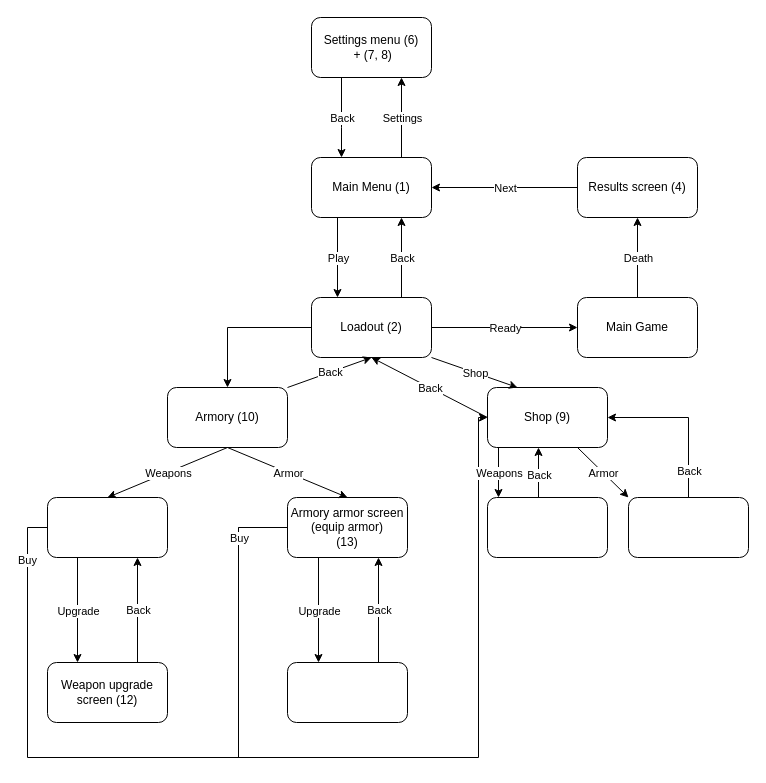
This 766x783 diagram has some shape labels left out. Here are the shapes that lost their labels. From the top down, the centre of each, then its label:
At [107,527]: "Armory weapon screen (11) (equip weapons)".
At [547,527]: "Shop weapon screen (equip/buy weapons) (3)".
At [688,527]: "Shop armor screen (equip/buy armor) (5)".
At [347,692]: "Armor upgrade screen (14)".
